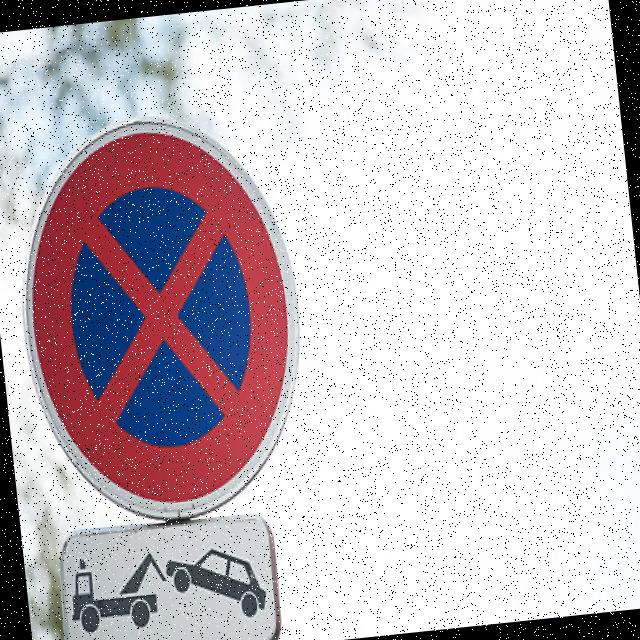no_parking: (0, 96, 331, 530)
